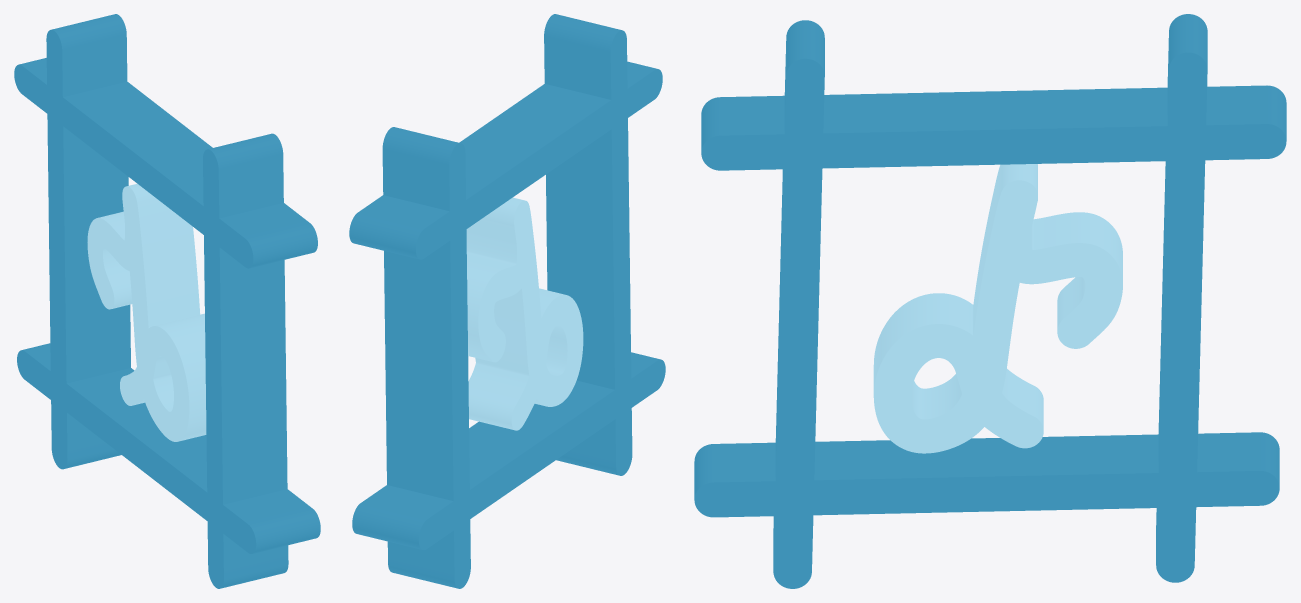
The model's file is skymelo3d_floating6.gltf.
3 renders of one model, left to right at view 1: azimuth 30°, elevation 25°; view 2: azimuth 150°, elevation 25°; view 3: azimuth 270°, elevation 25°, orthographic. The views are drawn at different scales.
Visible parts, largest first — view 1: Curve.001, Curve.002, Curve.004, Curve.005, Curve.003, Curve.006; view 2: Curve.002, Curve.001, Curve.004, Curve.003, Curve.005, Curve.006; view 3: Curve.004, Curve.003, Curve.005, Curve.002, Curve.001, Curve.006.
Part boxes in pixels (x1,y1,x2,y2): Curve.001: (203, 133, 288, 588); Curve.002: (46, 14, 130, 469); Curve.004: (14, 58, 317, 268); Curve.005: (120, 183, 206, 441); Curve.003: (17, 343, 320, 553); Curve.006: (87, 185, 157, 309); Curve.002: (382, 127, 470, 588); Curve.001: (544, 14, 632, 475); Curve.004: (349, 61, 662, 259); Curve.003: (352, 352, 665, 550); Curve.005: (466, 199, 583, 430); Curve.006: (466, 197, 532, 362); Curve.004: (701, 85, 1286, 170); Curve.003: (694, 432, 1279, 517); Curve.005: (873, 164, 1043, 453); Curve.002: (1156, 14, 1207, 582); Curve.001: (773, 20, 824, 588); Curve.006: (993, 164, 1122, 348).
Size of what is drawn, in the model's own units: 0.0914 by 0.5936 by 0.5938.
